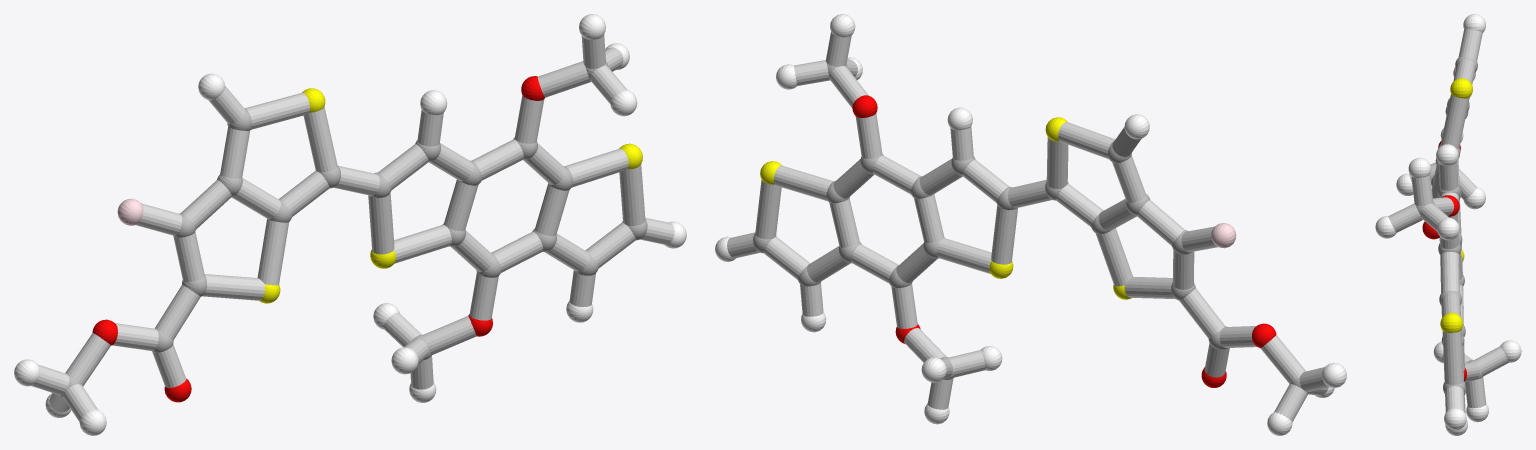
Rendered from Dimethoxy_Benzodithiophene_Phi_10_Theta_10_Methylcarbonyl_3_Fluoro_Thienothiophene.glb.
3 views of the same model, side by side, from view 1: azimuth 30°, elevation 25°; view 2: azimuth 150°, elevation 25°; view 3: azimuth 270°, elevation 25° (orthographic). The views are drawn at different scales.
Visible parts, largest first — view 1: grp15205, grp8689, grp1, grp13395, grp7241; view 2: grp15205, grp8689, grp1, grp13395, grp7241; view 3: grp15205, grp8689, grp1, grp7241, grp13395.
Part boxes in pixels (<box>): grp15205: <box>32,34,674,421</box>; grp8689: <box>14,14,686,435</box>; grp1: <box>59,61,647,398</box>; grp13395: <box>92,76,544,402</box>; grp7241: <box>259,88,642,303</box>; grp15205: <box>727,32,1329,421</box>; grp8689: <box>715,14,1346,435</box>; grp1: <box>753,63,1310,393</box>; grp13395: <box>852,95,1276,387</box>; grp7241: <box>760,117,1131,299</box>; grp15205: <box>1388,29,1508,413</box>; grp8689: <box>1375,14,1521,435</box>; grp1: <box>1415,57,1482,395</box>; grp7241: <box>1440,78,1472,332</box>; grp13395: <box>1422,140,1466,381</box>.
Size of the model in its own units: 17.14 by 9.28 by 3.85.
